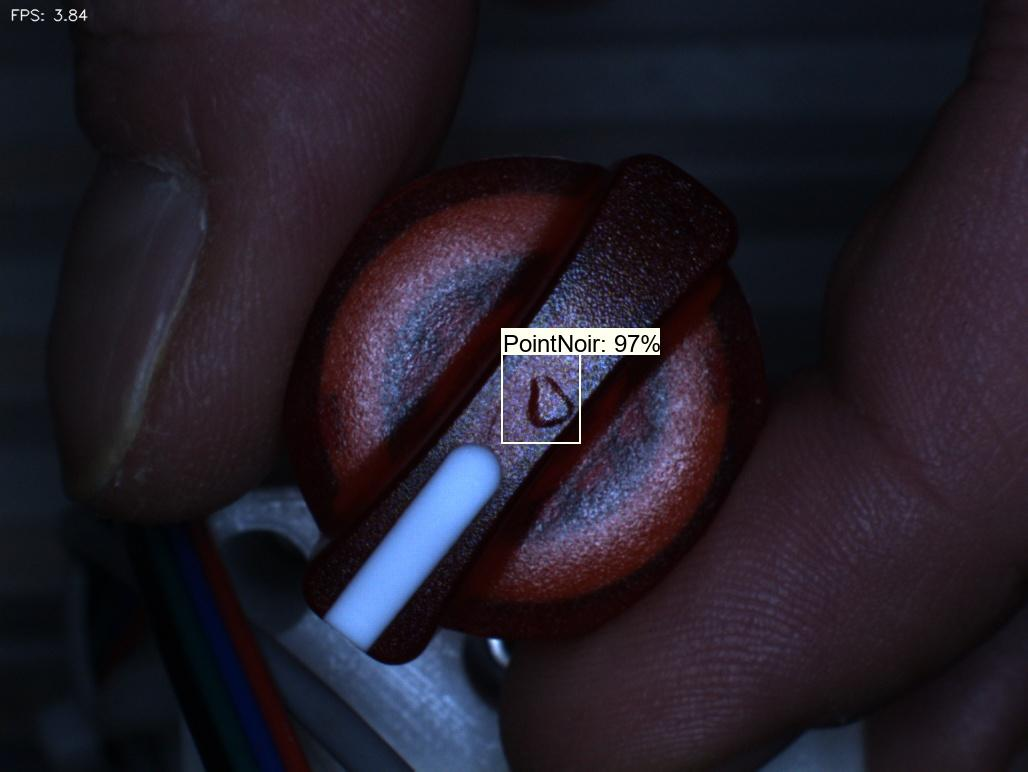Choc: (506, 365, 592, 447)
